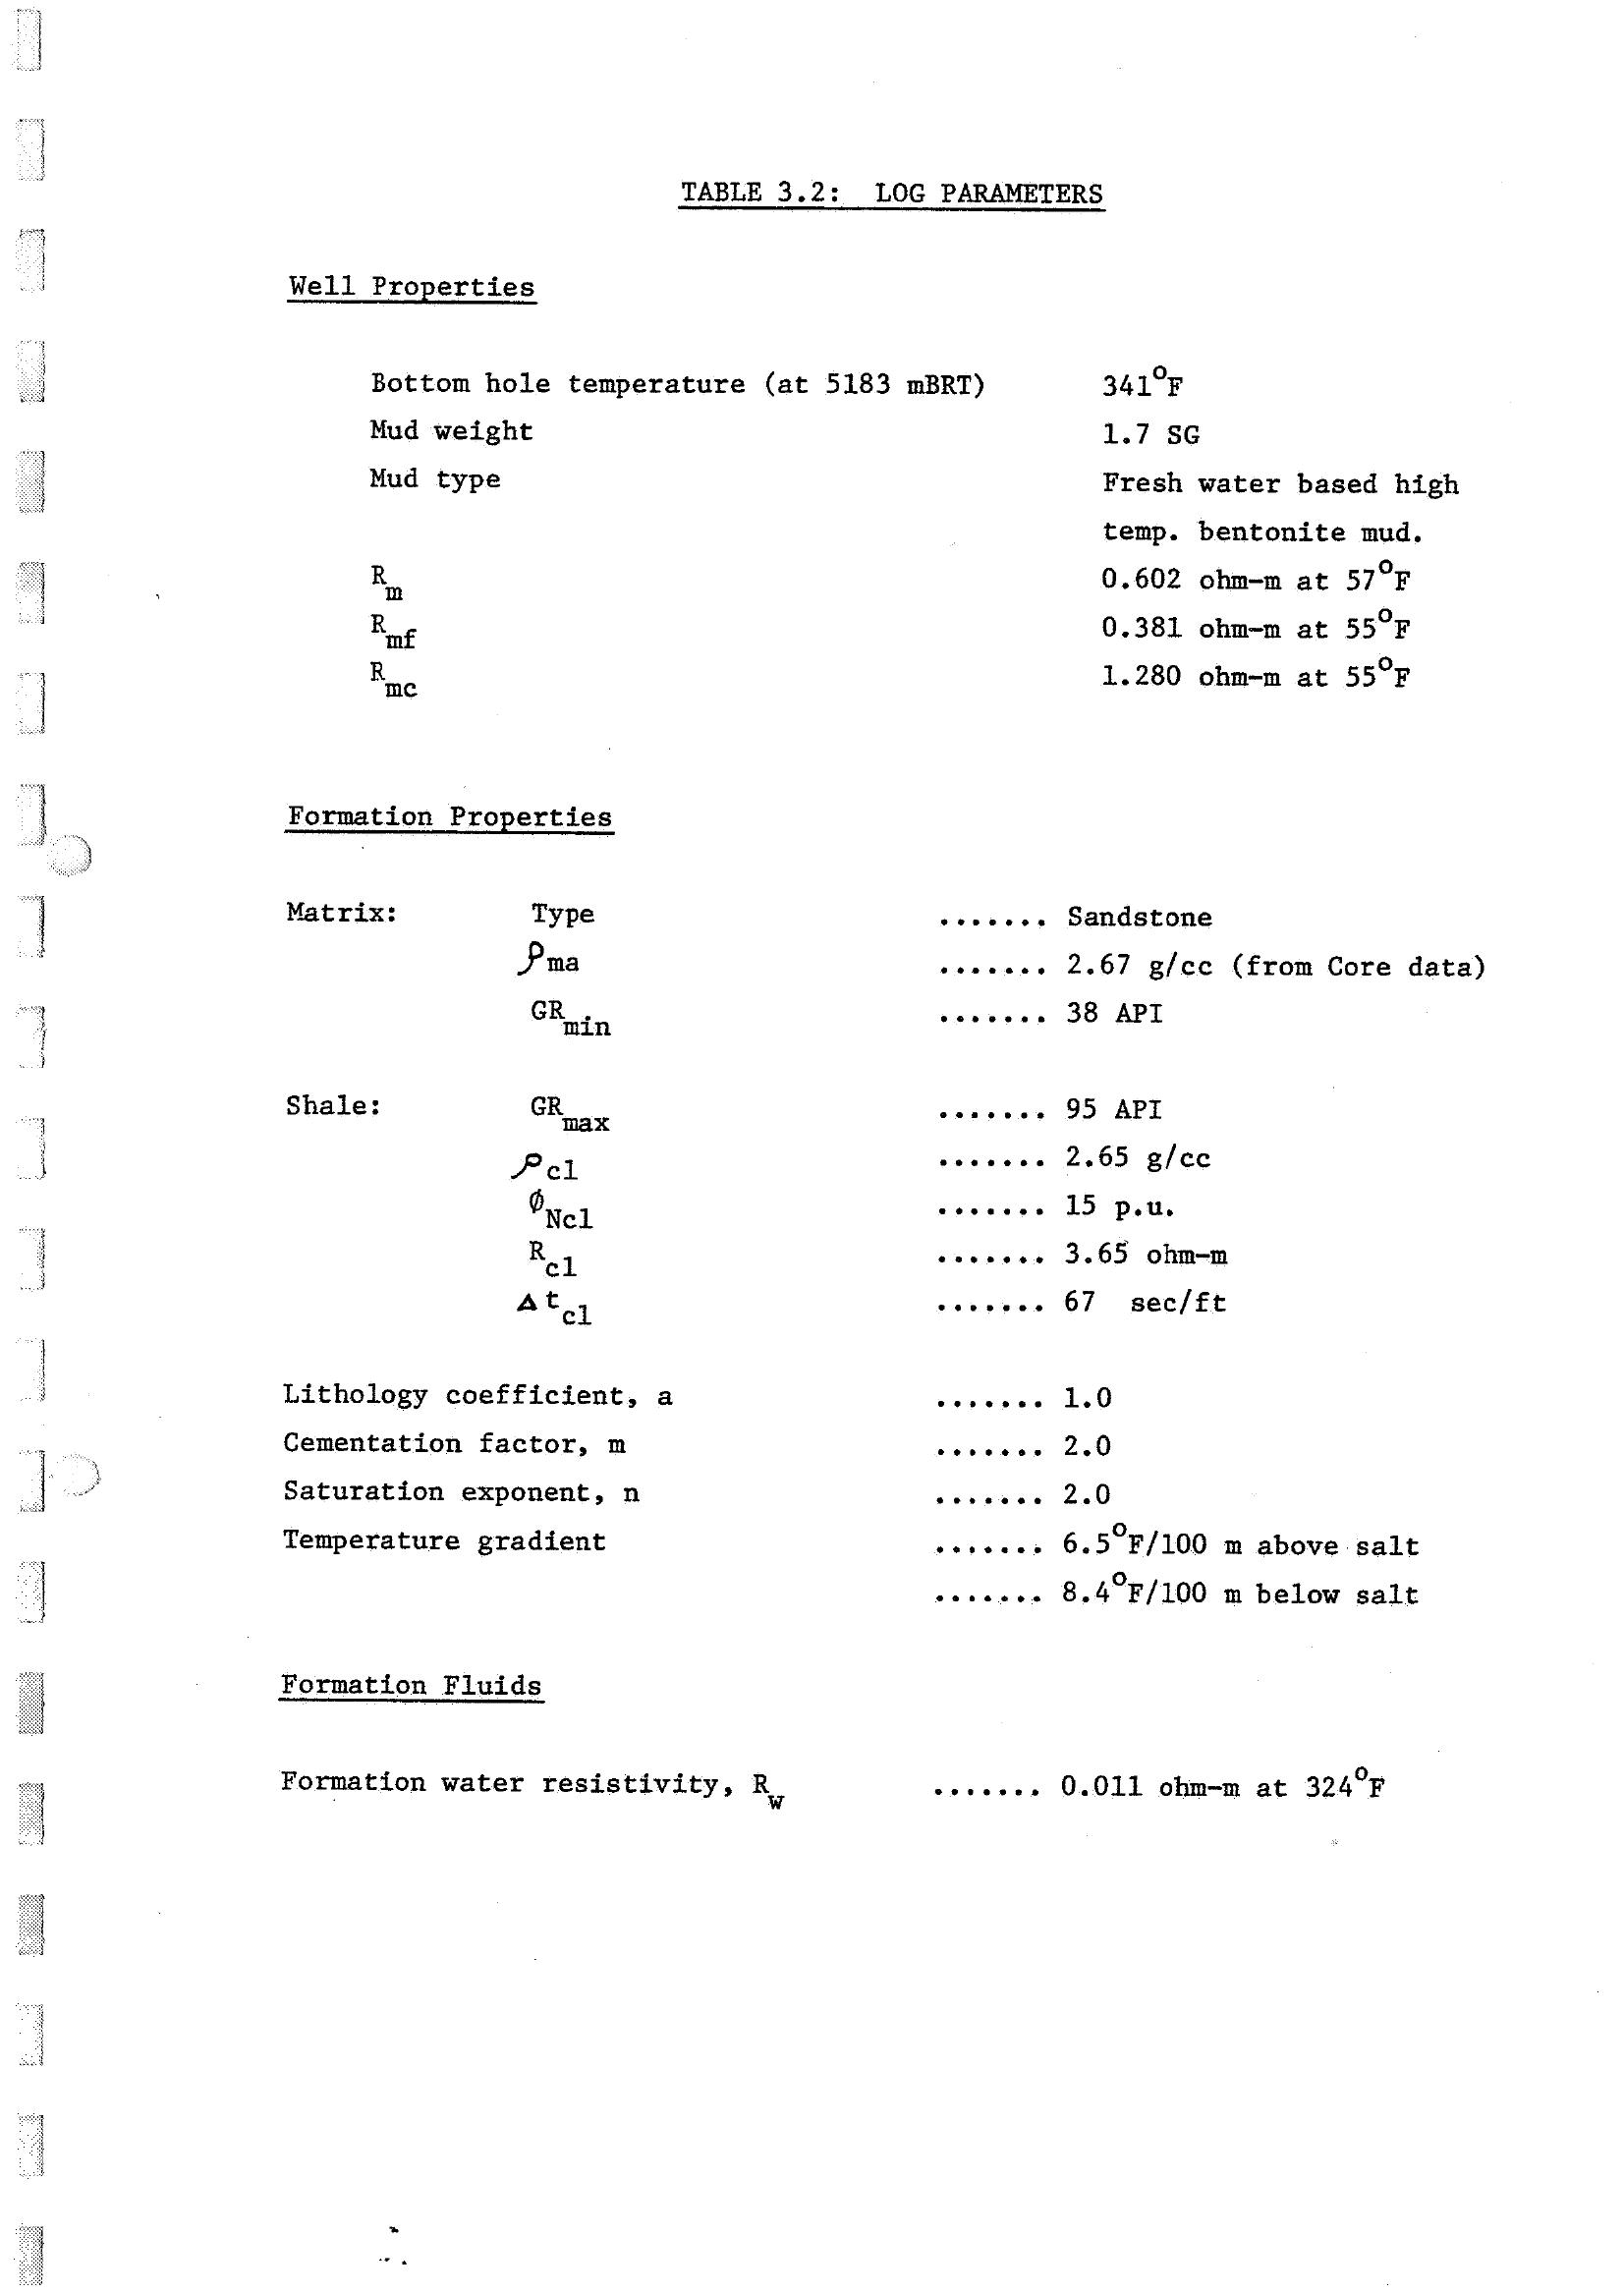text: (172, 160, 1562, 1841)
